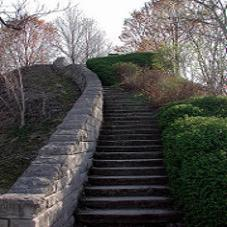Stair Up: (73, 85, 178, 224)
